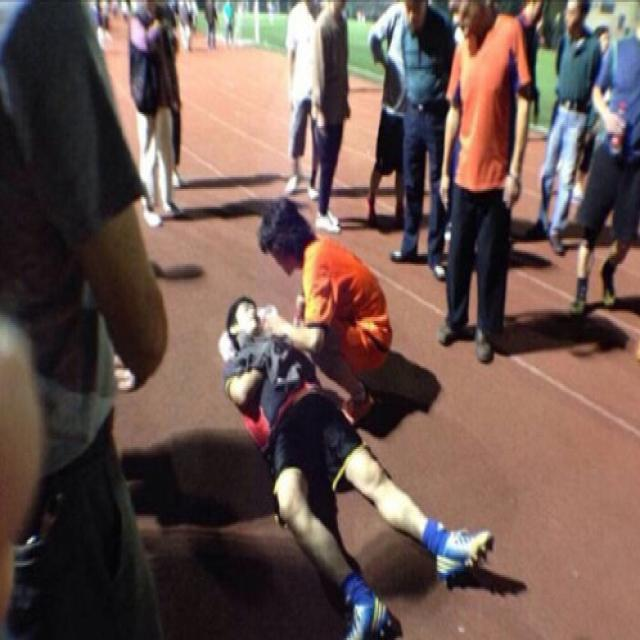10-: (0, 0, 637, 630)
down: (203, 284, 515, 638)
